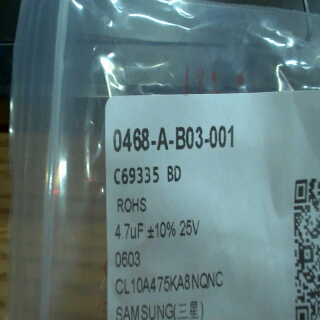4.7uF: (113, 220, 145, 246)
